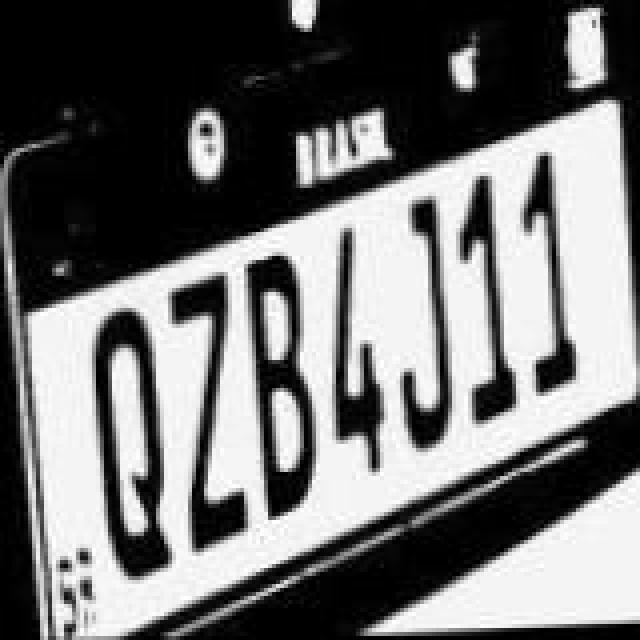1: (510, 148, 594, 400), (446, 166, 518, 426)
4: (316, 224, 388, 480)
B: (240, 242, 312, 522)
J: (382, 188, 454, 460)
Q: (86, 302, 166, 578)
Z: (164, 262, 248, 558)
